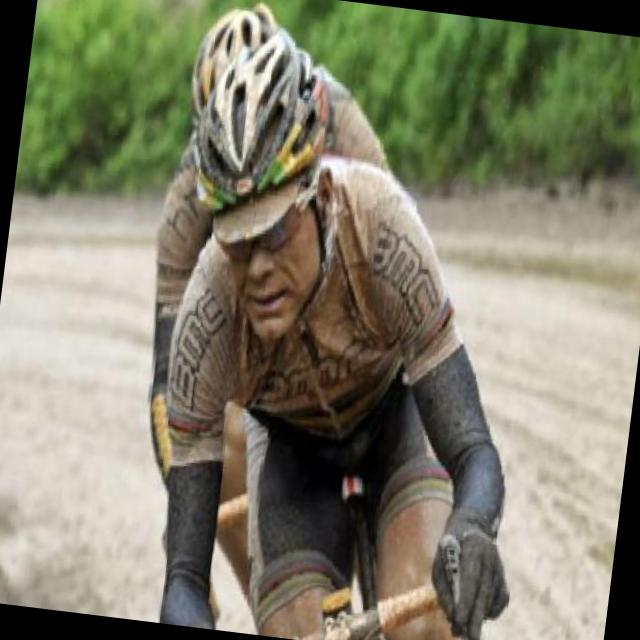With Helmet: (178, 14, 349, 280)
